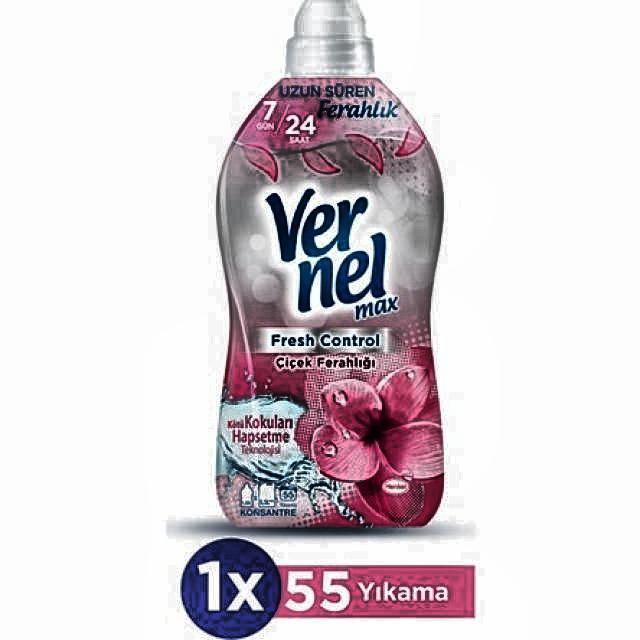plastic: (214, 0, 446, 532)
